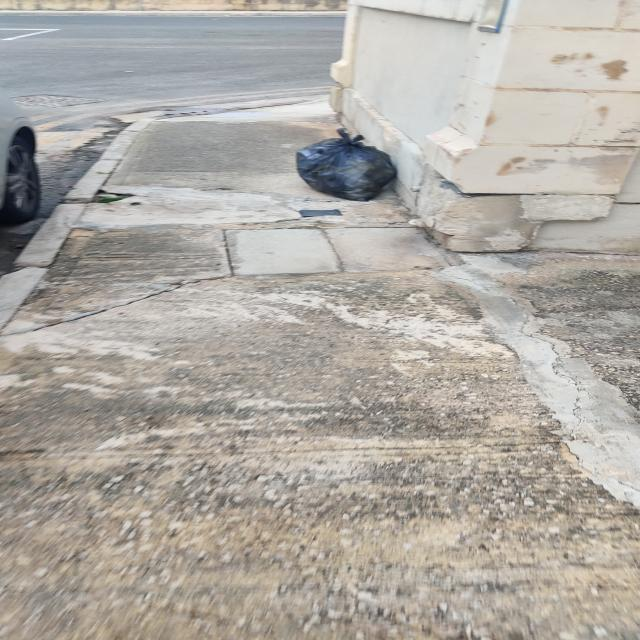Mixed Waste -Black Bags-: (297, 127, 397, 201)
